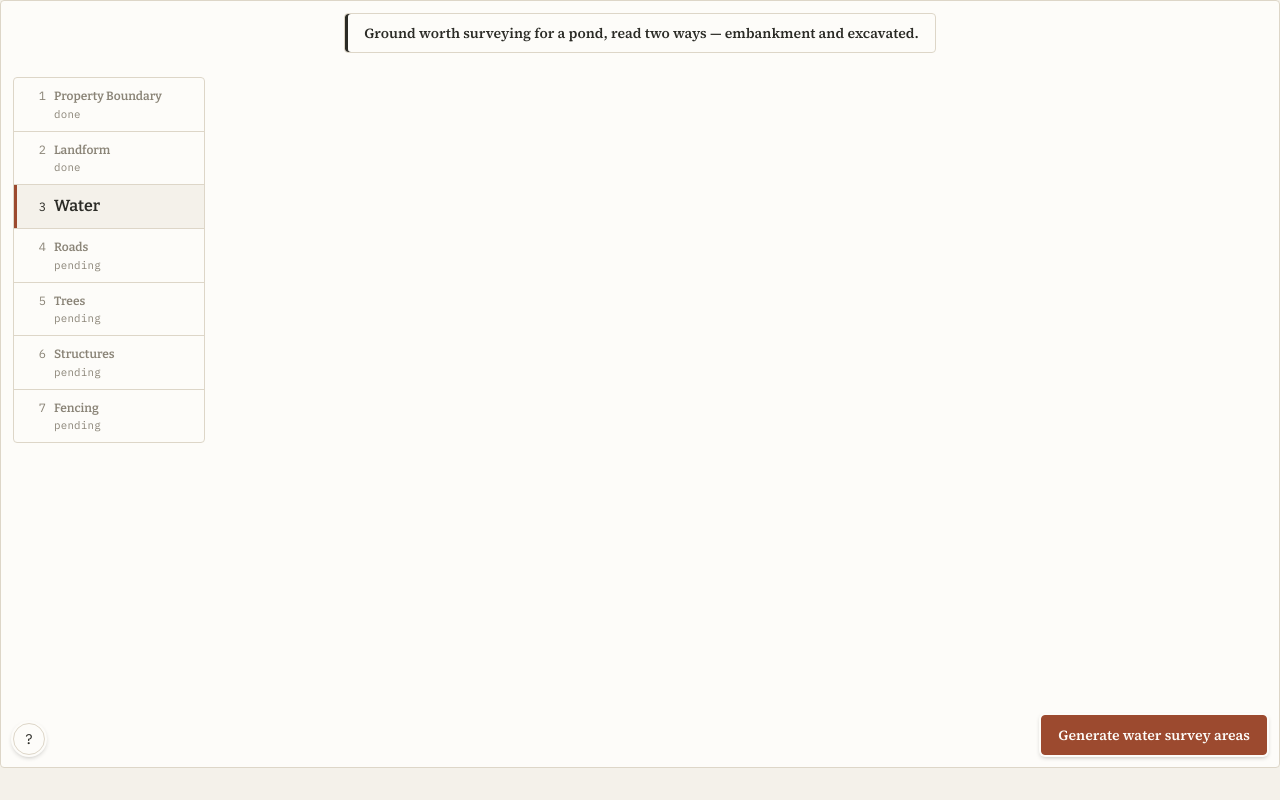
it: 1. the water entry registers one card › opens by itself on the water generate press, not on arrival, through the shipped shell and registry
This screenshot has width=1280, height=800.
Click the button "Generate water survey areas": (1154, 735) 1041,715 -> 1267,755
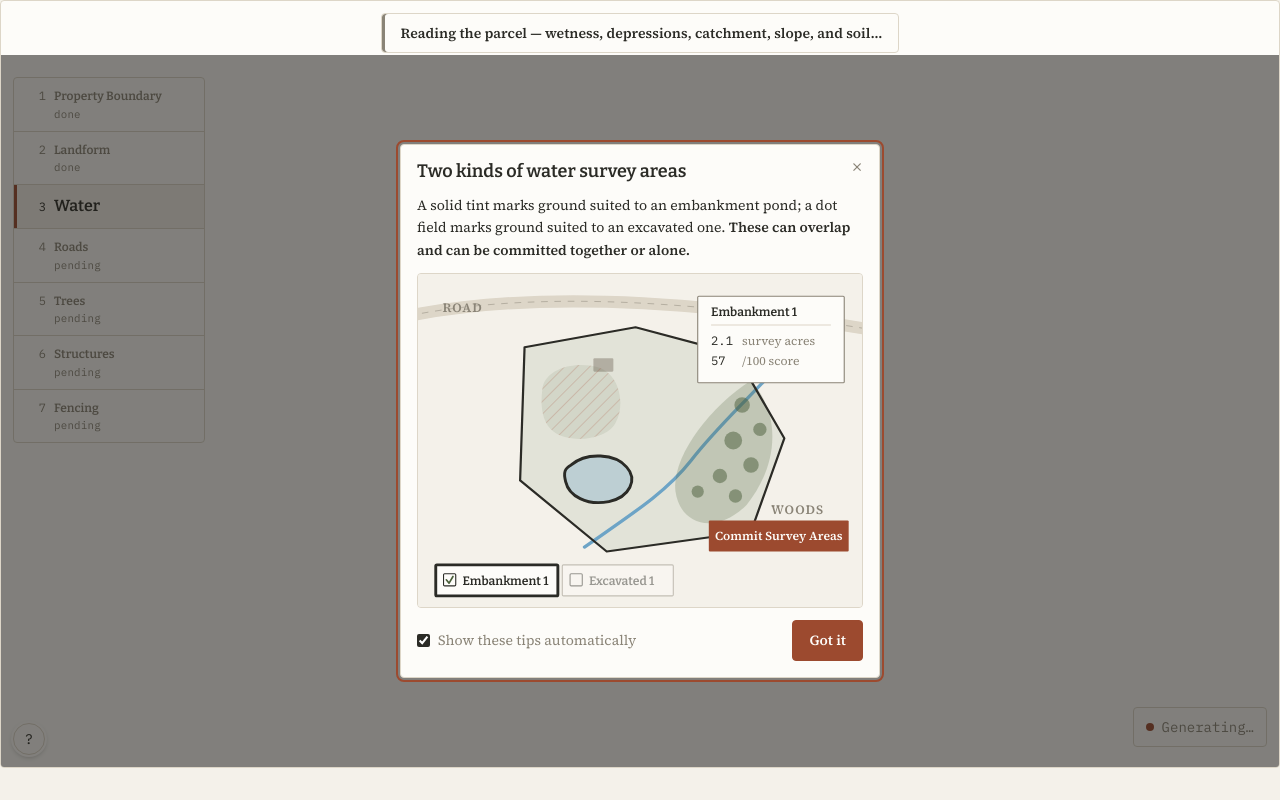
Expected: the heading "Two kinds of water survey areas" is shown, 417,160 -> 686,182
Expected: the picture with class "tutorial-anim--water" is shown, 418,274 -> 862,607
